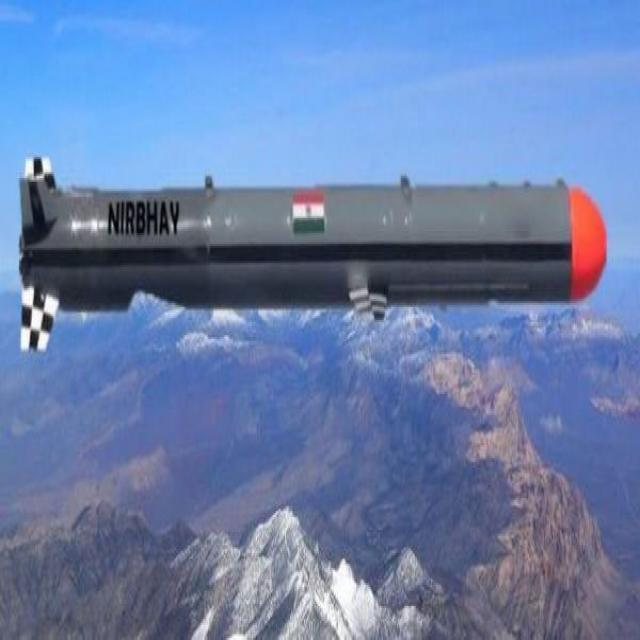Missile: (15, 141, 613, 353)
